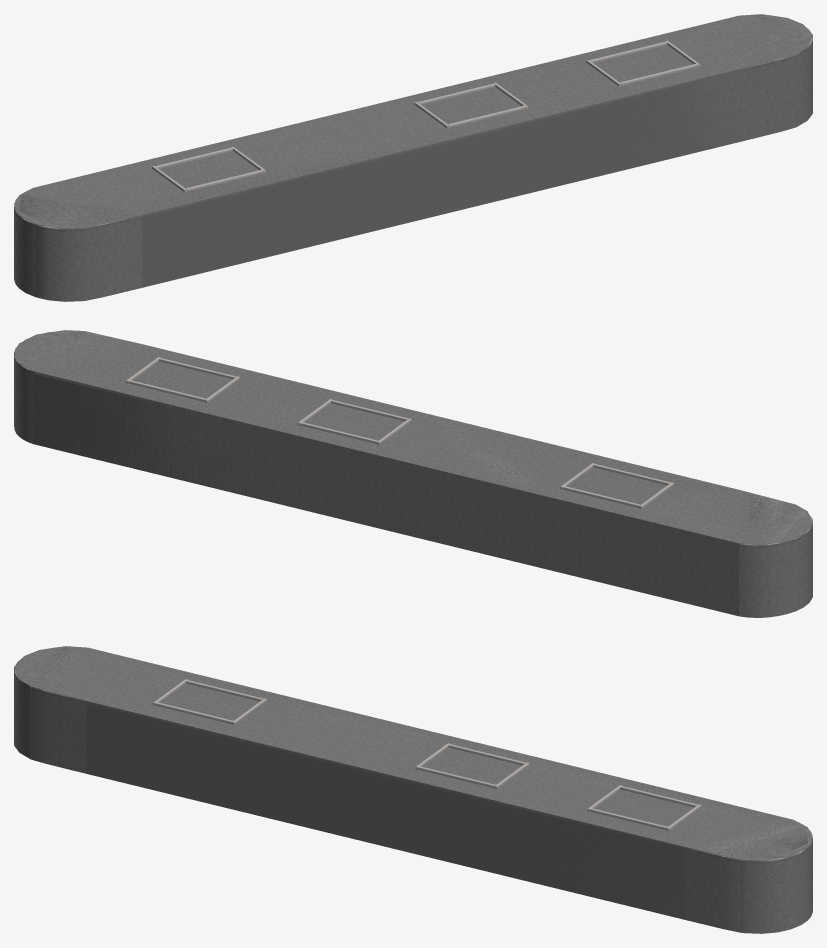
File: eca_gastation_concretebase.DAE
3 views of the same model, one above another, from view 1: azimuth 30°, elevation 25°; view 2: azimuth 150°, elevation 25°; view 3: azimuth 330°, elevation 25° (orthographic).
Parts seen in each view (by area): view 1: Colmesh-1, eca_gastation_concretebase100, eca_gastation_concretebase300, eca_gastation_concretebase200; view 2: Colmesh-1, eca_gastation_concretebase100, eca_gastation_concretebase300, eca_gastation_concretebase200; view 3: eca_gastation_concretebase100, Colmesh-1, eca_gastation_concretebase300, eca_gastation_concretebase200.
Boxes of the visible parts, left/top/right/bottom form: Colmesh-1: left=14, top=14, right=812, bottom=229; eca_gastation_concretebase100: left=19, top=15, right=797, bottom=287; eca_gastation_concretebase300: left=14, top=15, right=812, bottom=301; eca_gastation_concretebase200: left=19, top=16, right=812, bottom=301; Colmesh-1: left=14, top=330, right=812, bottom=617; eca_gastation_concretebase100: left=28, top=332, right=795, bottom=541; eca_gastation_concretebase300: left=14, top=333, right=812, bottom=617; eca_gastation_concretebase200: left=33, top=331, right=812, bottom=542; eca_gastation_concretebase100: left=38, top=647, right=807, bottom=919; Colmesh-1: left=14, top=646, right=812, bottom=919; eca_gastation_concretebase300: left=14, top=647, right=812, bottom=933; eca_gastation_concretebase200: left=14, top=647, right=809, bottom=933.
Size of the model in its own units: 29.86 by 3.63 by 2.75.
